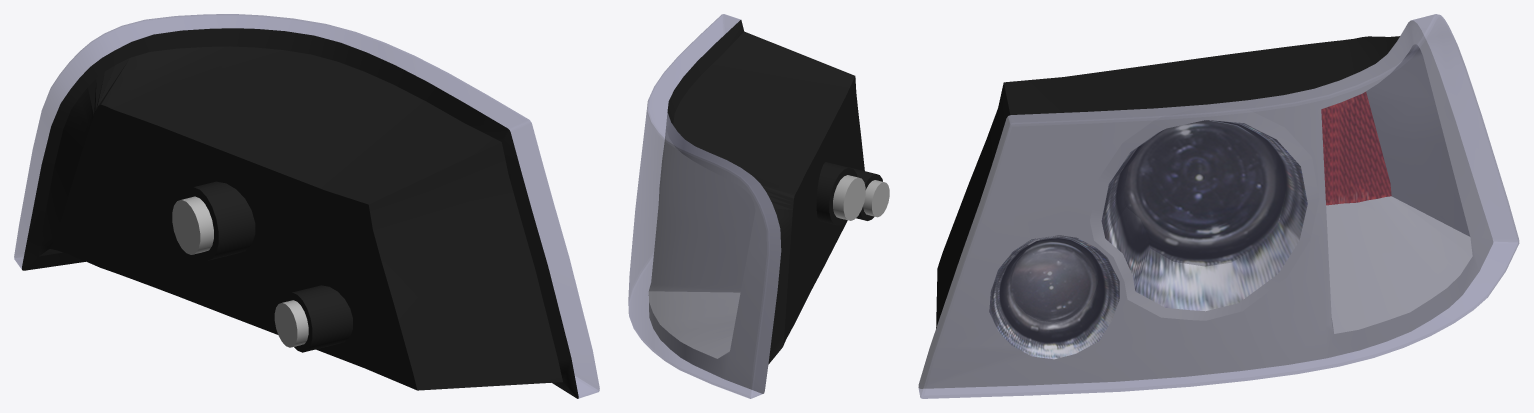
The picture shows the model from 3 angles, left to right: view 1: azimuth 30°, elevation 25°; view 2: azimuth 150°, elevation 25°; view 3: azimuth 270°, elevation 25°; orthographic projection. The views are drawn at different scales.
Visible parts, largest first — view 1: P845_061B_L_P845_061B_L_5_D, P845_061B_L_P845_061B_L_6_DTaSI, P845_061B_L_1_DaS_P845_061B_L; view 2: P845_061B_L_P845_061B_L_6_DTaSI, P845_061B_L_P845_061B_L_5_D, P845_061B_L_1_DaS_P845_061B_L; view 3: P845_061B_L_P845_061B_L_6_DTaSI, P845_061B_L_1_DaS_P845_061B_L, P845_061B_L_P845_061B_L_2_N, P845_061B_L_P845_061B_L_5_D, P845_061B_L_P845_061B_L_3_N, P845_061B_L_P845_061B_L_4_N.
Boxes of the visible parts, x1,y1,x2,y2 form: P845_061B_L_P845_061B_L_5_D: [22, 28, 578, 398]; P845_061B_L_P845_061B_L_6_DTaSI: [14, 14, 599, 398]; P845_061B_L_1_DaS_P845_061B_L: [172, 196, 308, 347]; P845_061B_L_P845_061B_L_6_DTaSI: [628, 14, 780, 398]; P845_061B_L_P845_061B_L_5_D: [667, 20, 882, 364]; P845_061B_L_1_DaS_P845_061B_L: [648, 112, 889, 393]; P845_061B_L_P845_061B_L_6_DTaSI: [918, 14, 1519, 398]; P845_061B_L_1_DaS_P845_061B_L: [918, 20, 1493, 388]; P845_061B_L_P845_061B_L_2_N: [1101, 120, 1307, 311]; P845_061B_L_P845_061B_L_5_D: [936, 36, 1399, 328]; P845_061B_L_P845_061B_L_3_N: [989, 235, 1119, 359]; P845_061B_L_P845_061B_L_4_N: [1321, 92, 1391, 205].
Bounding box in the file's own units: 31.09 × 24.19 × 49.58.
